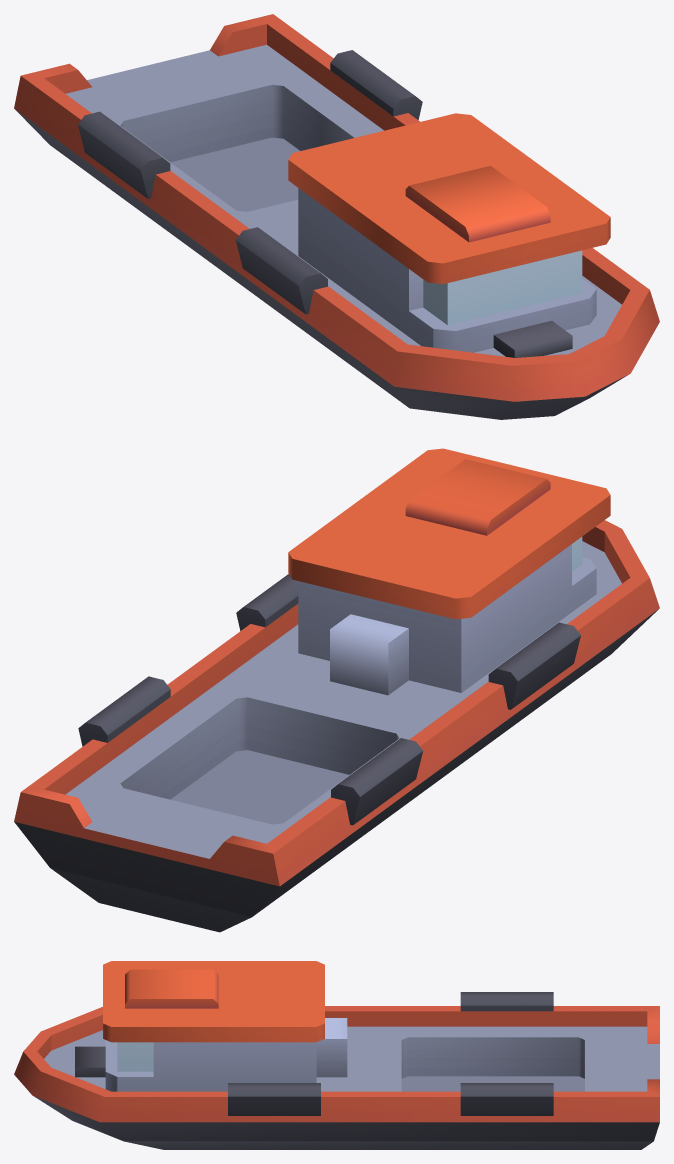
The model's file is ship-cargo-c.glb.
3 views of the same model, one above another, from view 1: azimuth 30°, elevation 25°; view 2: azimuth 150°, elevation 25°; view 3: azimuth 270°, elevation 25° (orthographic). The views are drawn at different scales.
Visible parts, largest first — view 1: ship-cargo-c; view 2: ship-cargo-c; view 3: ship-cargo-c.
Part boxes in pixels (<box>): ship-cargo-c: <box>14,14,659,419</box>; ship-cargo-c: <box>14,448,659,932</box>; ship-cargo-c: <box>14,961,659,1149</box>.
Bounding box in the file's own units: 3.92 × 2.59 × 10.55.
Materials: 1 (1 with a texture image).
